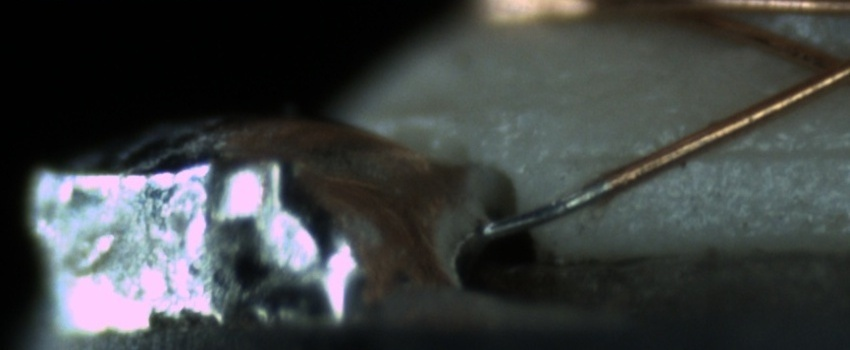CL: (780, 33, 847, 106)
DL: (565, 123, 847, 183)
TS: (488, 178, 613, 237)
